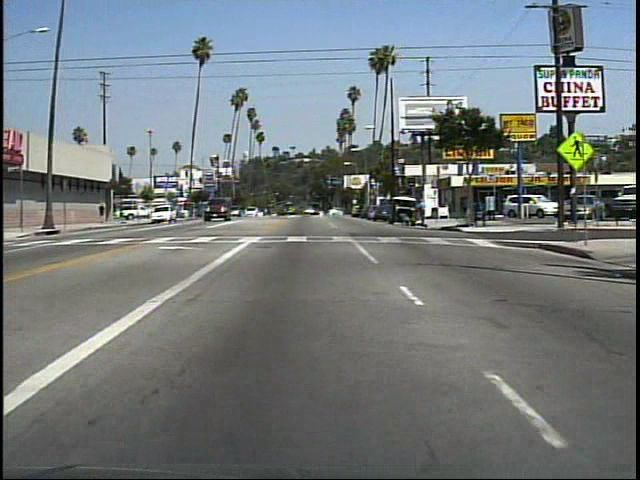person: (415, 197, 428, 228), (399, 211, 416, 229), (98, 199, 108, 226)
